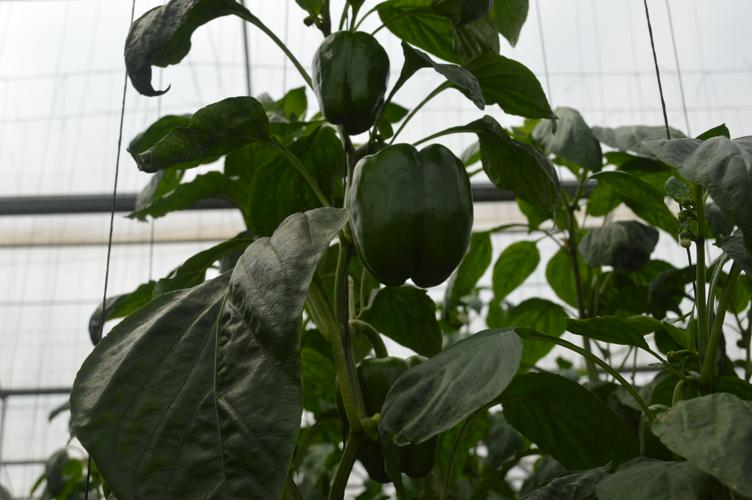BellPepper: (350, 144, 475, 290), (341, 357, 436, 477), (310, 32, 394, 130)
